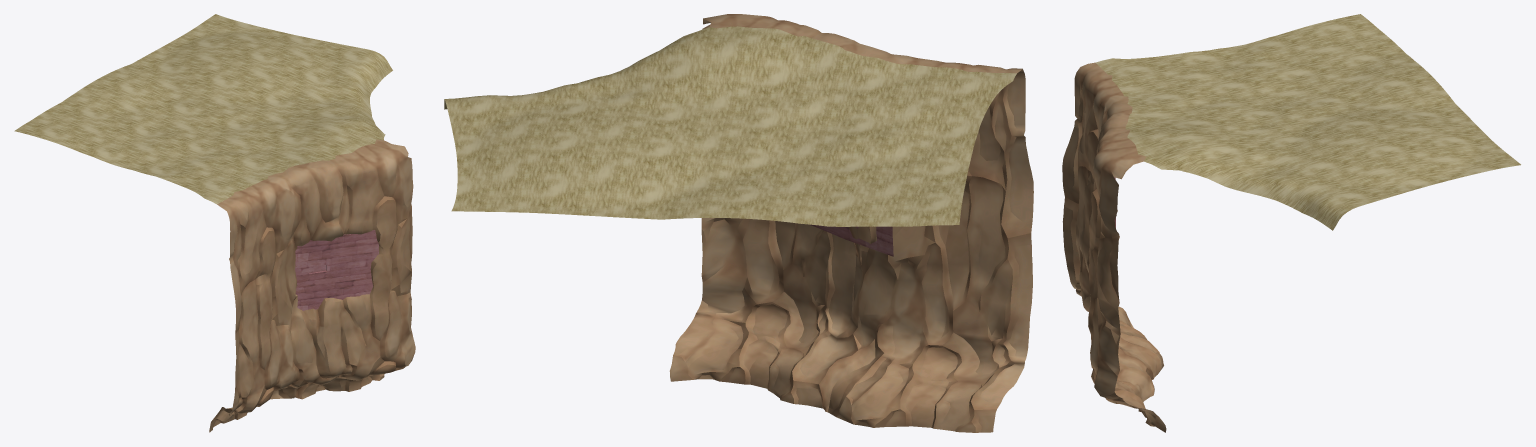
Rendered from SM_ENV_KNFRST_Cliff_Ia.FBX.
The picture shows the model from 3 angles, left to right: view 1: azimuth 30°, elevation 25°; view 2: azimuth 150°, elevation 25°; view 3: azimuth 270°, elevation 25°; orthographic projection. The views are drawn at different scales.
Visible parts, largest first — view 1: SM_ENV_KNFRST_Cliff_Ia; view 2: SM_ENV_KNFRST_Cliff_Ia; view 3: SM_ENV_KNFRST_Cliff_Ia.
Part boxes in pixels (x1,y1,x2,y2): SM_ENV_KNFRST_Cliff_Ia: [14, 14, 415, 432]; SM_ENV_KNFRST_Cliff_Ia: [444, 14, 1033, 432]; SM_ENV_KNFRST_Cliff_Ia: [1062, 14, 1520, 432].
Size of the model in its own units: 4649 by 2996 by 4613.
